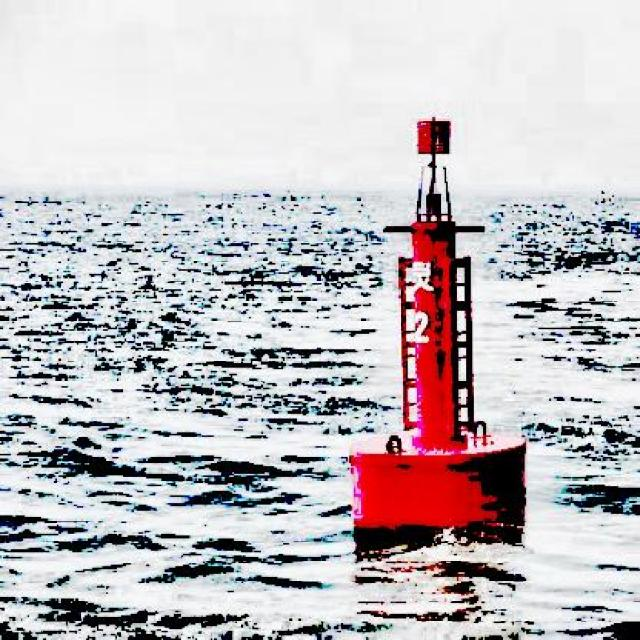Red Buoy: (349, 218, 526, 528)
